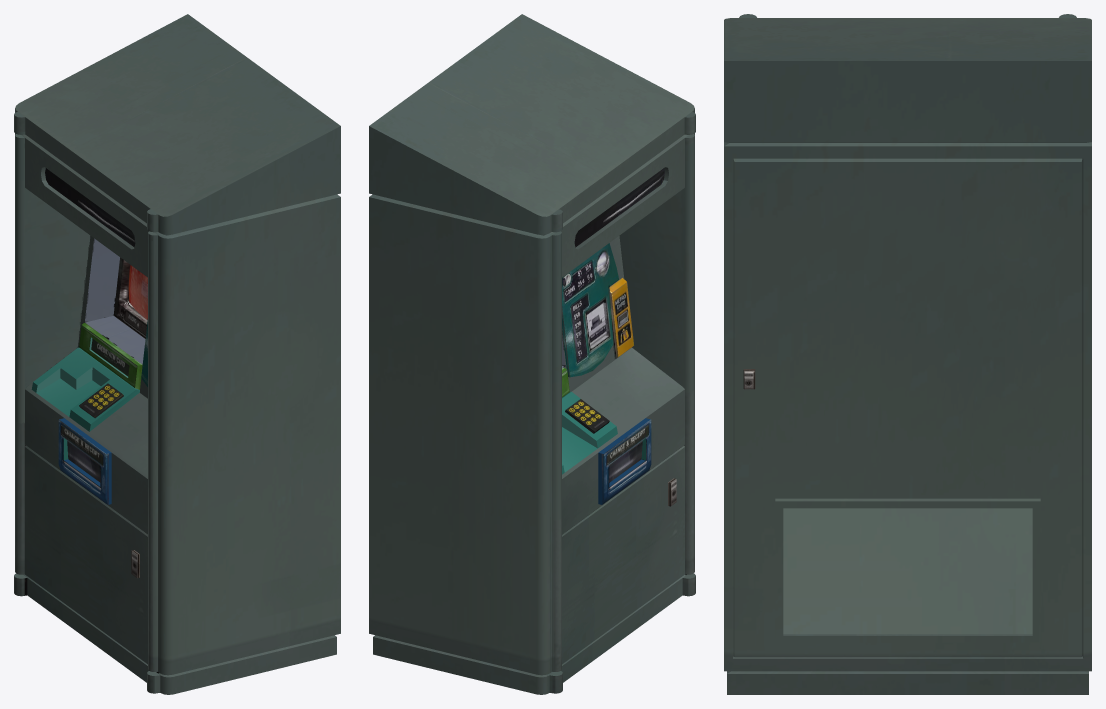
File: TicketMachine02a.FBX
3 views of the same model, side by side, from view 1: azimuth 30°, elevation 25°; view 2: azimuth 150°, elevation 25°; view 3: azimuth 270°, elevation 25° (orthographic). The views are drawn at different scales.
Visible parts, largest first — view 1: TicketMachine02a; view 2: TicketMachine02a; view 3: TicketMachine02a.
Boxes of the visible parts, <box> form: TicketMachine02a: <box>14,14,340,694</box>; TicketMachine02a: <box>369,14,695,694</box>; TicketMachine02a: <box>724,14,1091,694</box>.
Bounding box in the file's own units: 967 × 2589 × 1358.
